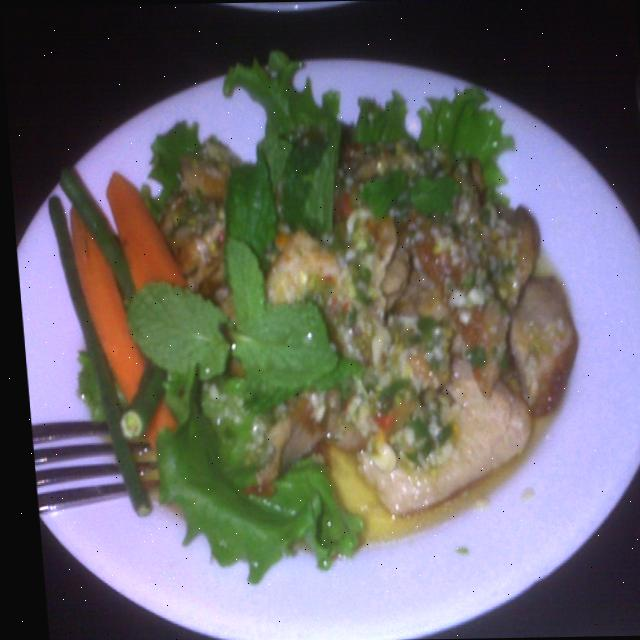猪肉菜式: (13, 46, 640, 609)
